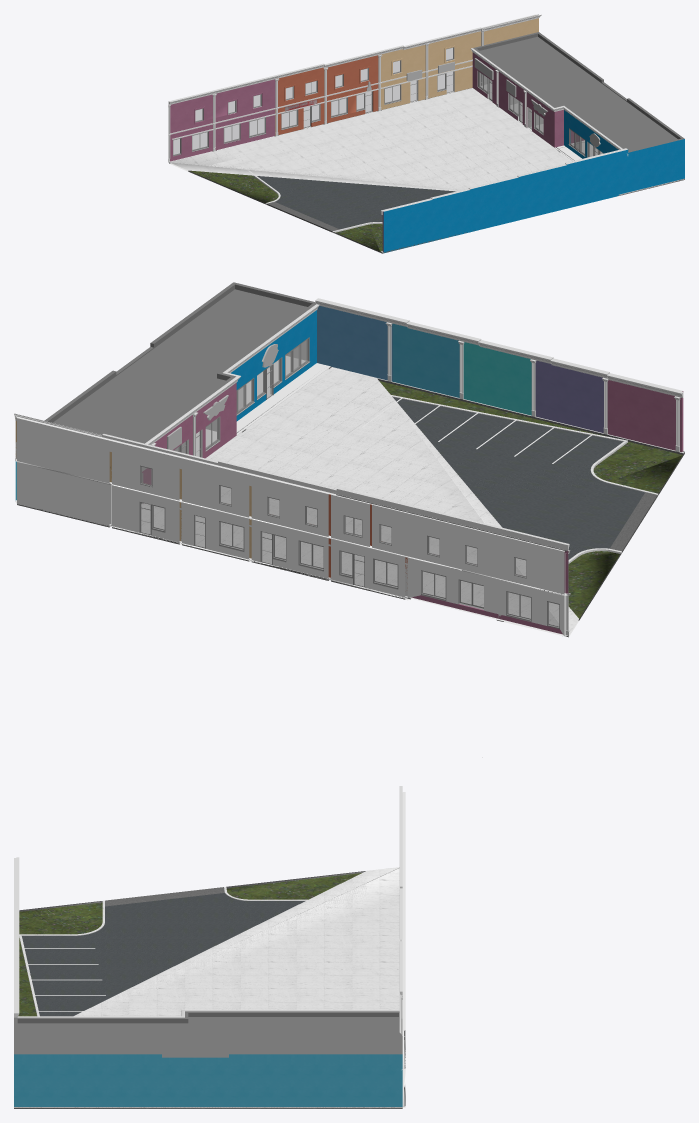
Rendered from exterior new2.fbx.
3 renders of one model, top to bottom at view 1: azimuth 30°, elevation 25°; view 2: azimuth 150°, elevation 25°; view 3: azimuth 270°, elevation 25°, orthographic. The views are drawn at different scales.
Parts seen in each view (by area): view 1: exterior edit; view 2: exterior edit; view 3: exterior edit.
Part boxes in pixels (<box>): exterior edit: <box>168,14,684,253</box>; exterior edit: <box>14,282,684,637</box>; exterior edit: <box>14,786,405,1108</box>.
Bounding box in the file's own units: 213382 × 30018 × 221317.
